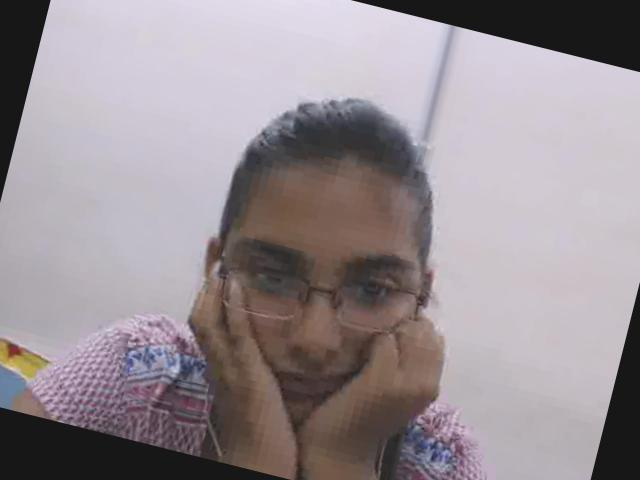bosan: (181, 150, 437, 451)
